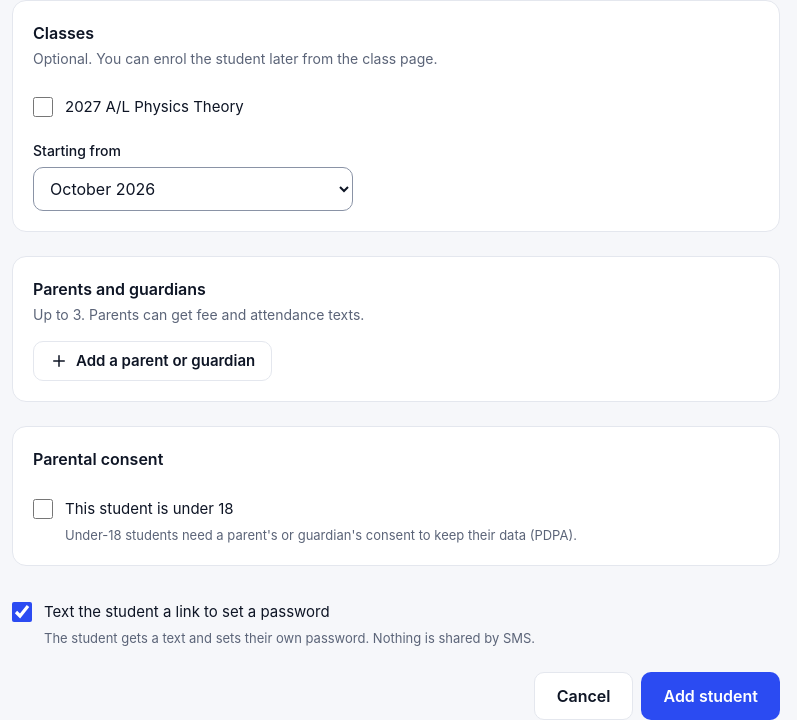
Test: StudentForm › validates with the API schema before sending
(page scrolled)
Click the button "Add student": (711, 696) [642,672,780,719]
(page scrolled)
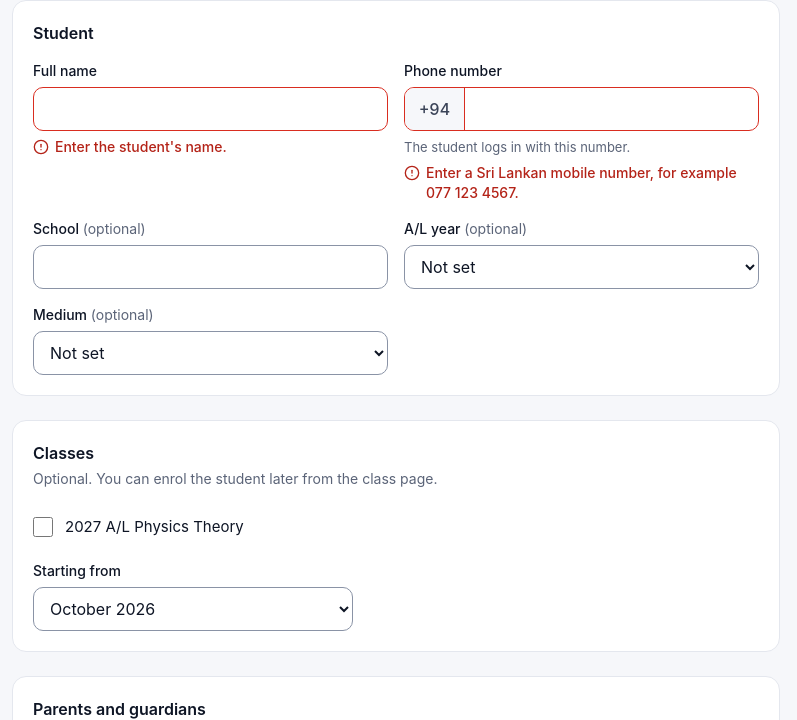
Result: the text "Enter the student's name." is shown at [55,137,227,157]
Result: the text "Enter a Sri Lankan mobile number, for example 077 123 4567." is shown at [426,163,759,203]
